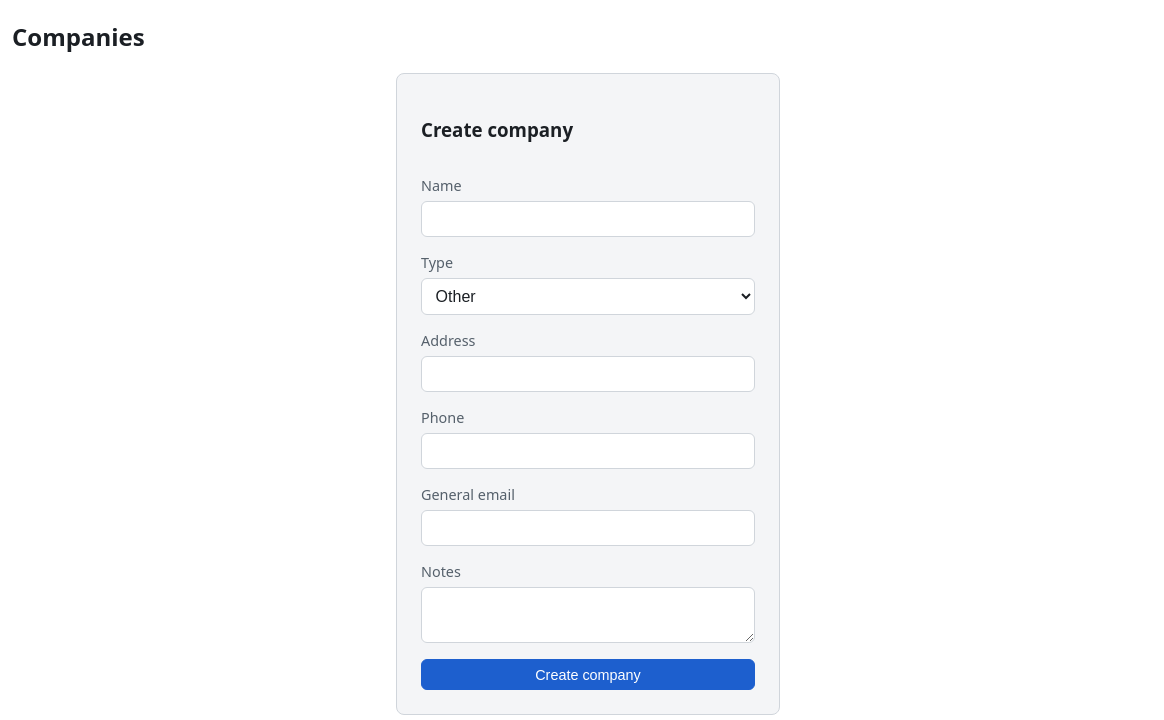
Test case: CompaniesPage › creates a company and refreshes the list
In the field labelled "Name": (588, 219) [421,201,755,237], type "Acme Ltd"
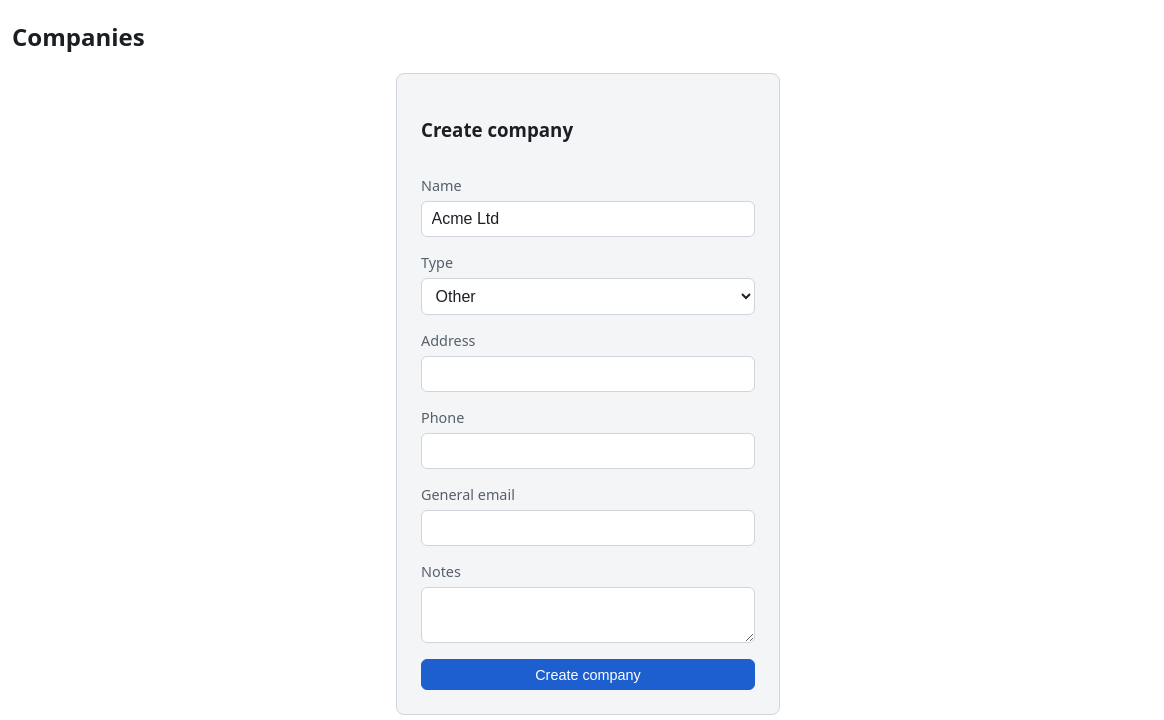
Select "Customer" in the dropdown labelled "Type": (588, 297) [421,278,755,315]
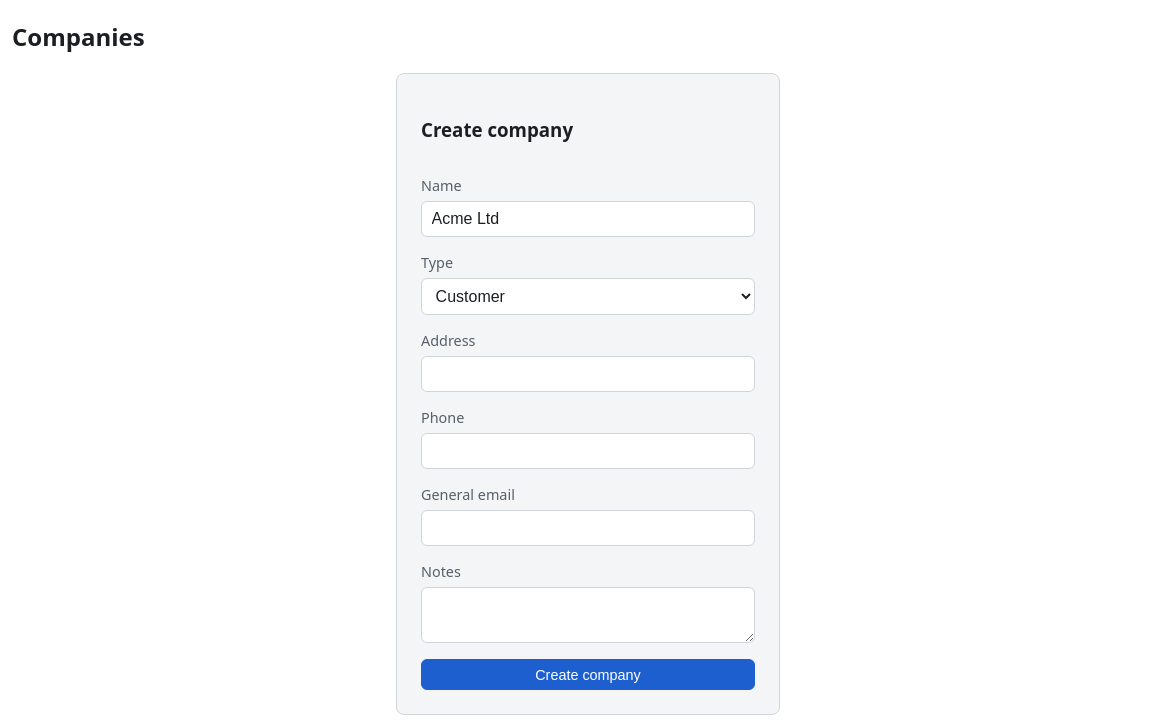
Click the button "Create company": click(588, 675) [421,659,755,690]
(page scrolled)
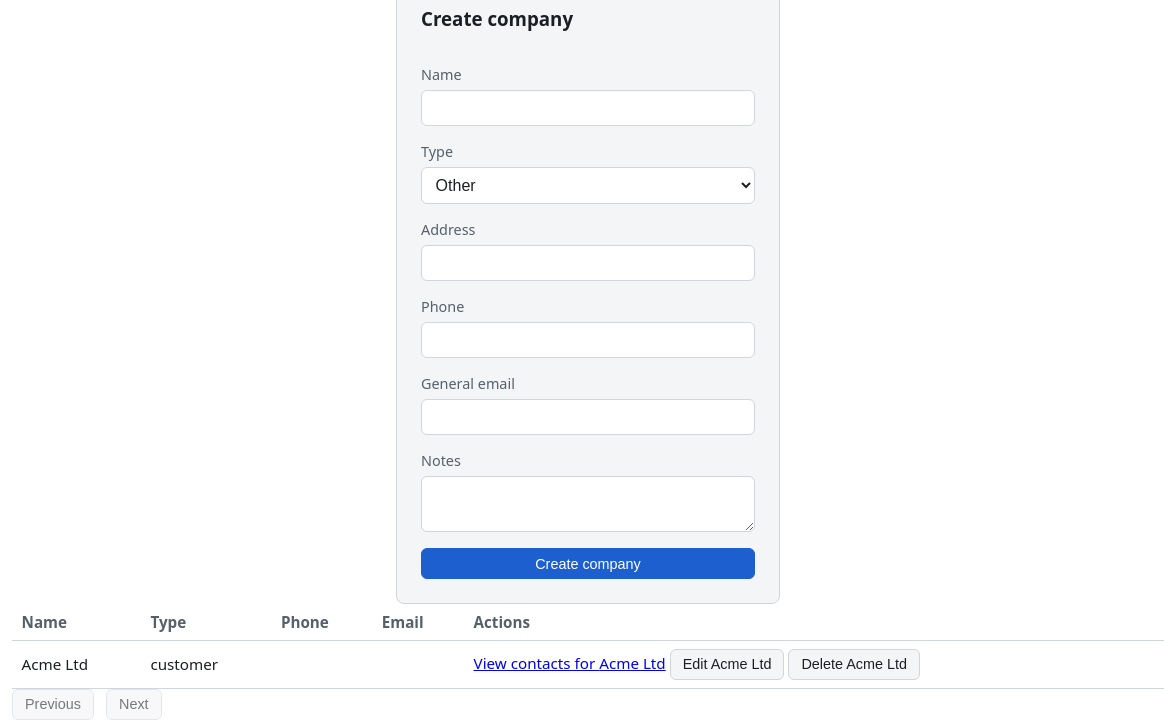
expect the text "Acme Ltd" is shown: met, box [12,640,141,688]
